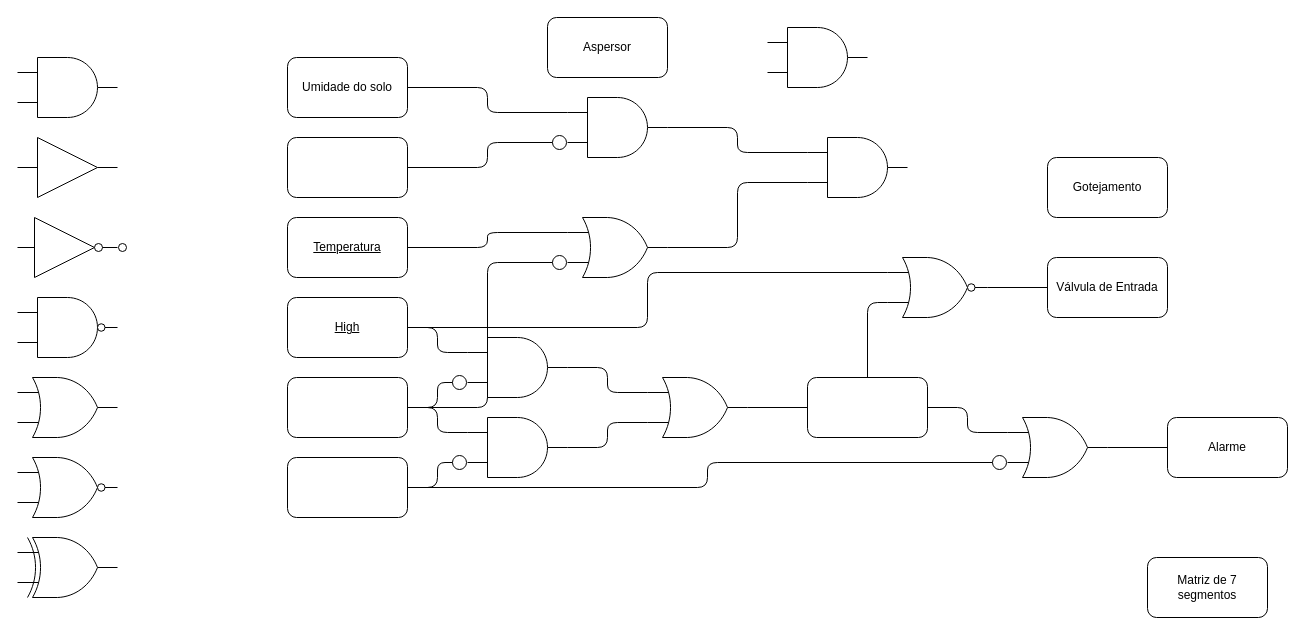
Image size: 1305x635. Some labels were removed from this diagram. The centre of each missing label's shape, as x and y in pixels:
"Erro" goes at point 867,407.
"Low" goes at point 347,487.
"Mid" goes at point 347,407.
"Umidade do Ar" goes at point 347,167.
